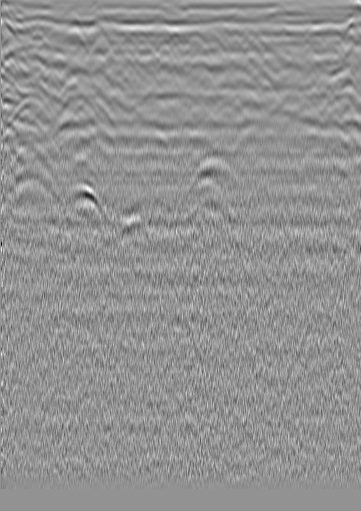가스: (60, 182, 107, 216)
상수: (324, 28, 344, 48)
오수: (28, 23, 48, 43)
우수: (184, 30, 204, 50)
